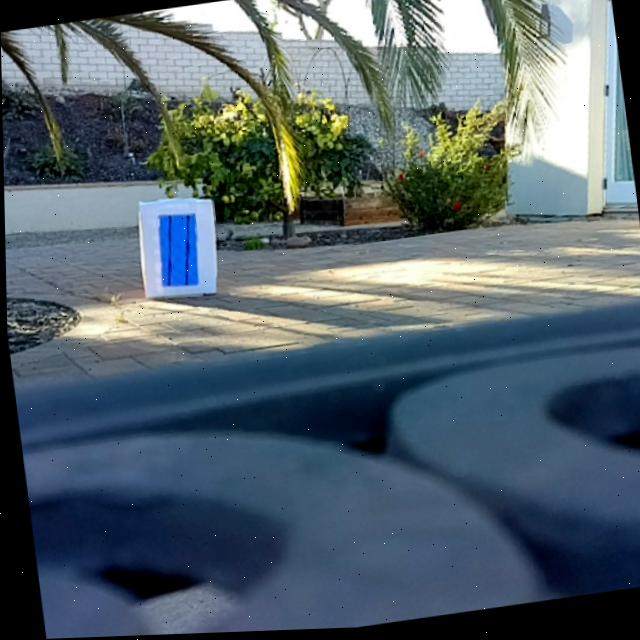led: (152, 212, 201, 290)
